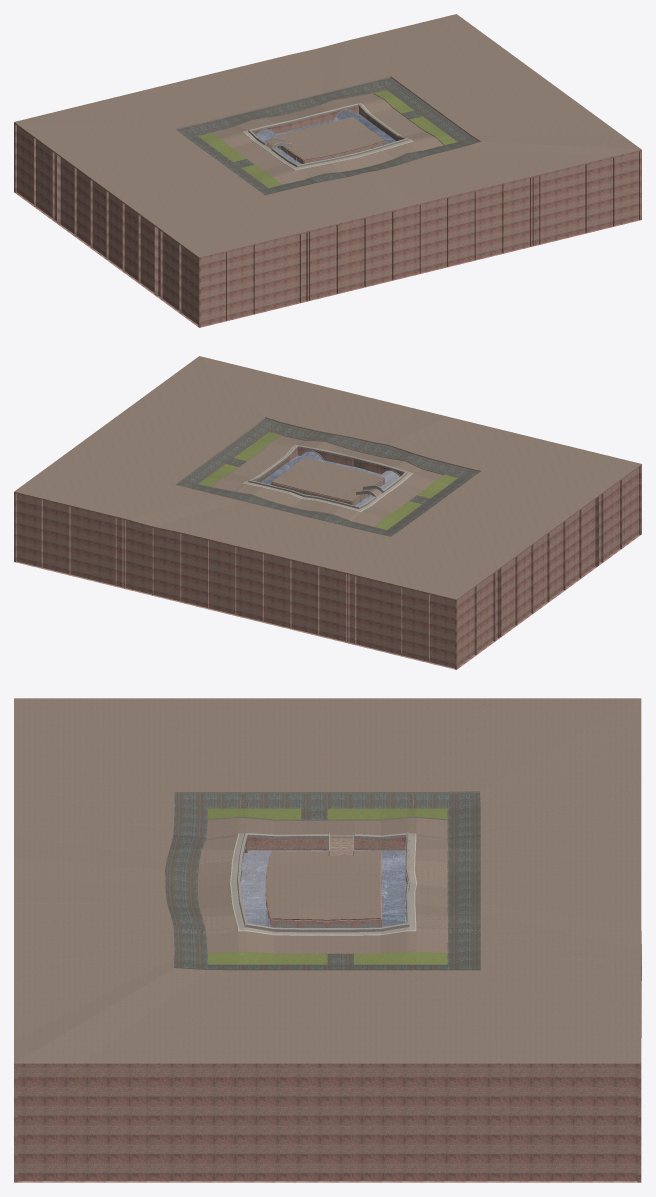
File: townground3.fbx
The picture shows the model from 3 angles, top to bottom: view 1: azimuth 30°, elevation 25°; view 2: azimuth 150°, elevation 25°; view 3: azimuth 270°, elevation 25°; orthographic projection. The views are drawn at different scales.
Parts seen in each view (by area): view 1: Plane; view 2: Plane; view 3: Plane.
Boxes of the visible parts, bbox=[...] form: Plane: bbox=[14, 14, 641, 327]; Plane: bbox=[14, 356, 641, 669]; Plane: bbox=[14, 698, 641, 1182].
Size of the model in its own units: 38014 by 6142 by 27608.
Materials: 7 (7 with a texture image).
